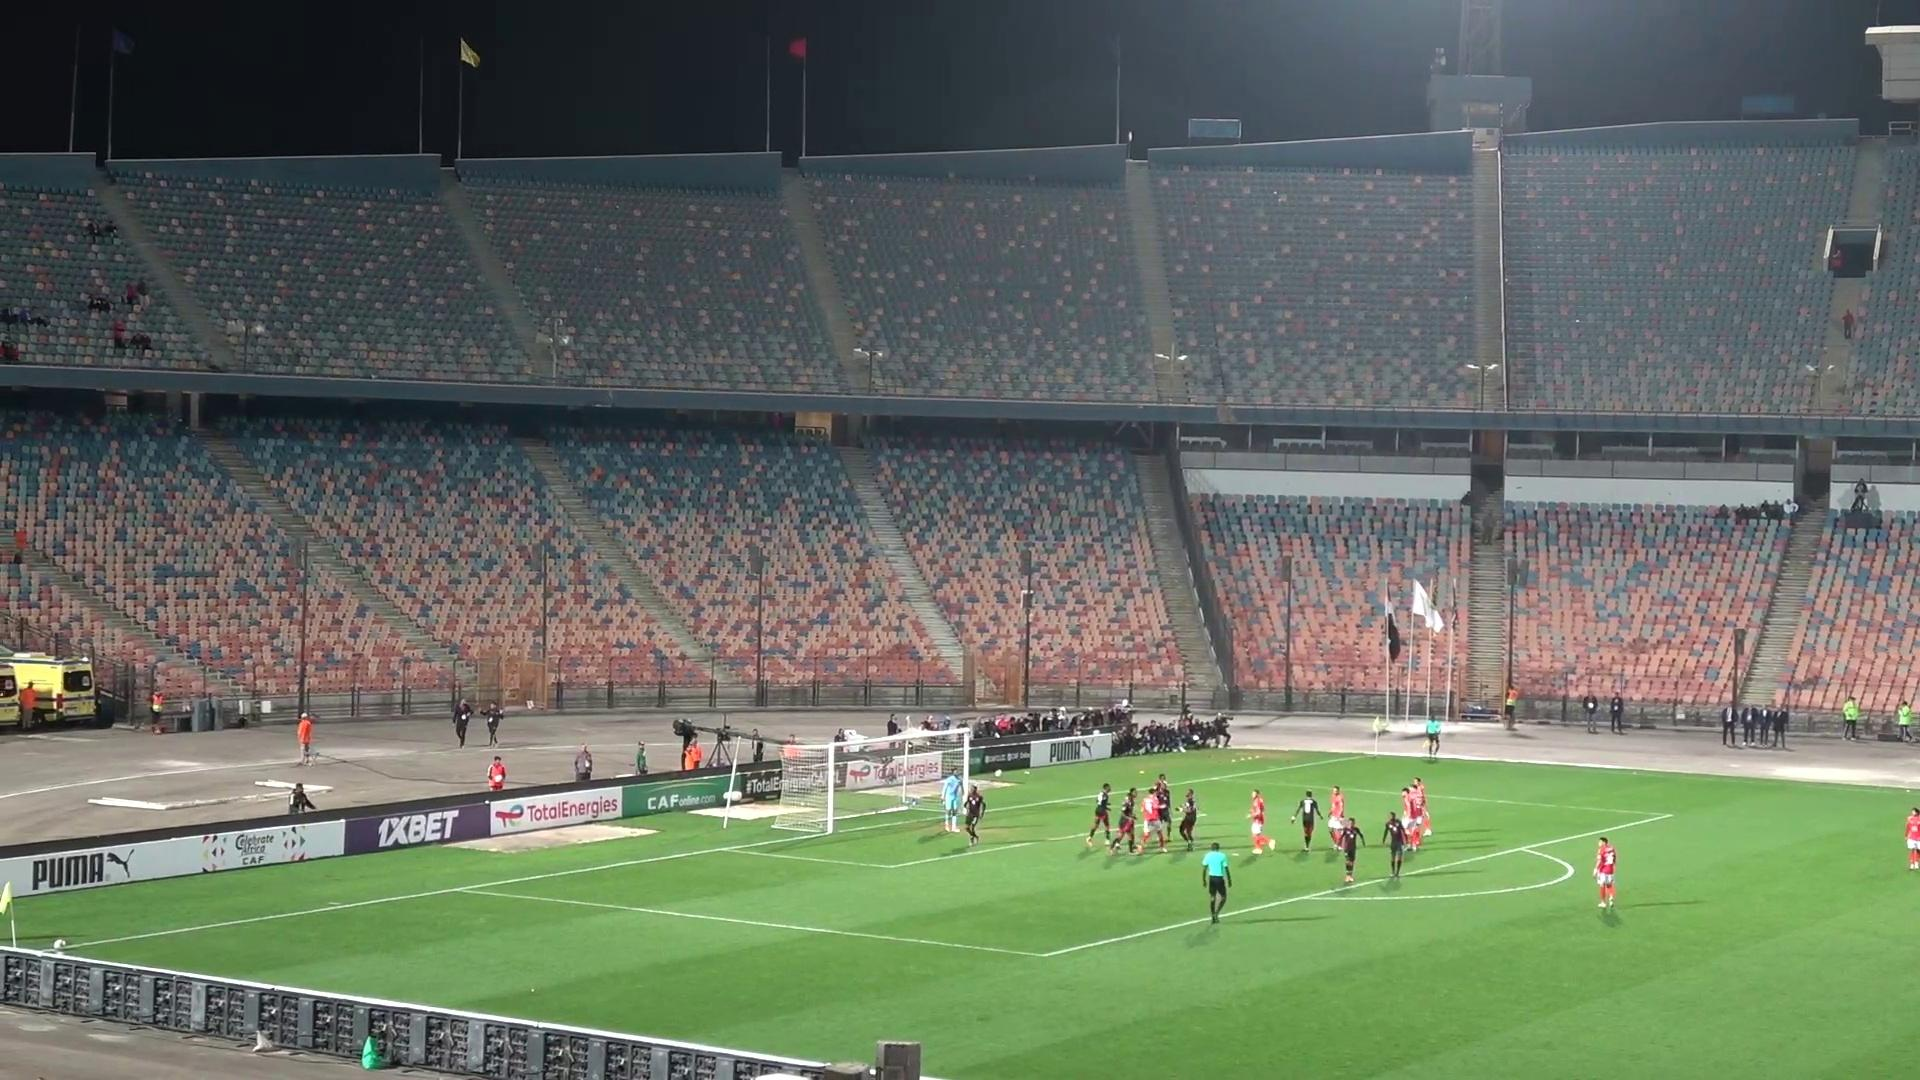Ball: (47, 939, 71, 956)
GK2: (942, 770, 965, 832)
Refree: (1201, 843, 1232, 923), (1406, 715, 1448, 760)
Team1: (1590, 835, 1617, 914), (1137, 789, 1168, 851), (1247, 789, 1274, 856), (1323, 786, 1353, 836), (1903, 806, 1919, 870)
Team2: (947, 785, 986, 845), (1331, 814, 1364, 885), (1400, 778, 1432, 849), (1379, 811, 1411, 878), (1292, 790, 1325, 851), (1087, 783, 1116, 847), (1113, 789, 1139, 851), (1175, 789, 1199, 848), (1153, 773, 1172, 829)
